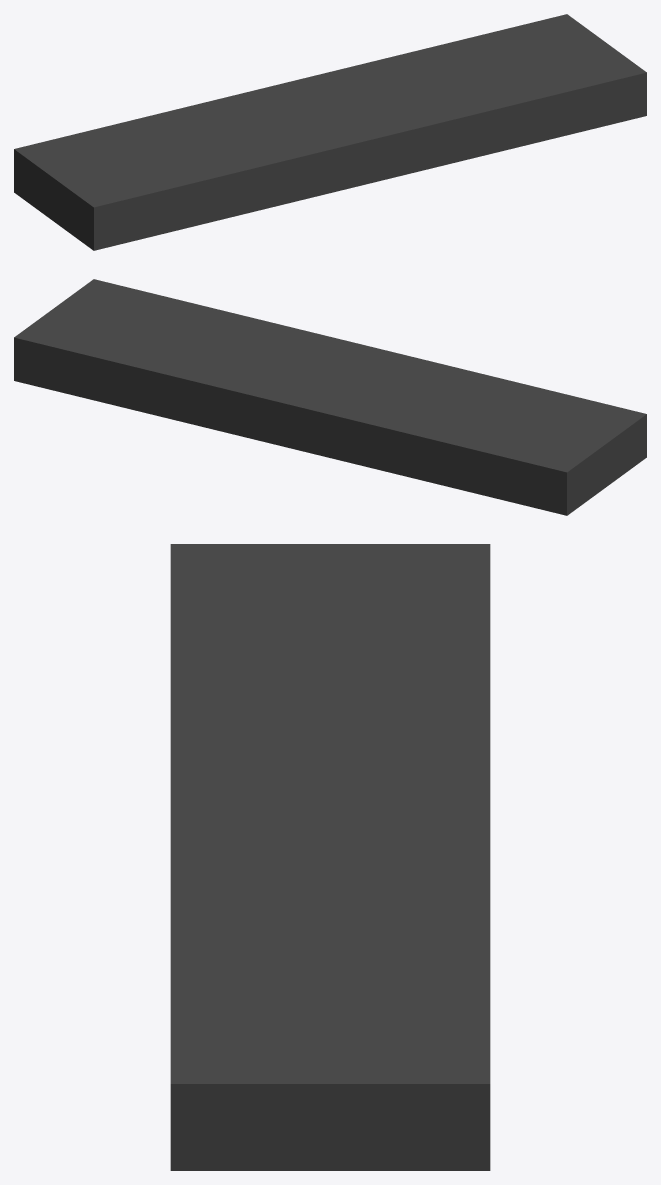
The model's file is ceiling_01_light.glb.
The picture shows the model from 3 angles, top to bottom: view 1: azimuth 30°, elevation 25°; view 2: azimuth 150°, elevation 25°; view 3: azimuth 270°, elevation 25°; orthographic projection. The views are drawn at different scales.
Visible parts, largest first — view 1: Untitled.001; view 2: Untitled.001; view 3: Untitled.001.
Part boxes in pixels (x1,y1,x2,y2): Untitled.001: (14,14,646,250); Untitled.001: (14,279,646,515); Untitled.001: (170,544,490,1170).
Size of the model in its own units: 1.2 by 0.09 by 0.3.
Materials: 2 (2 with a texture image).
